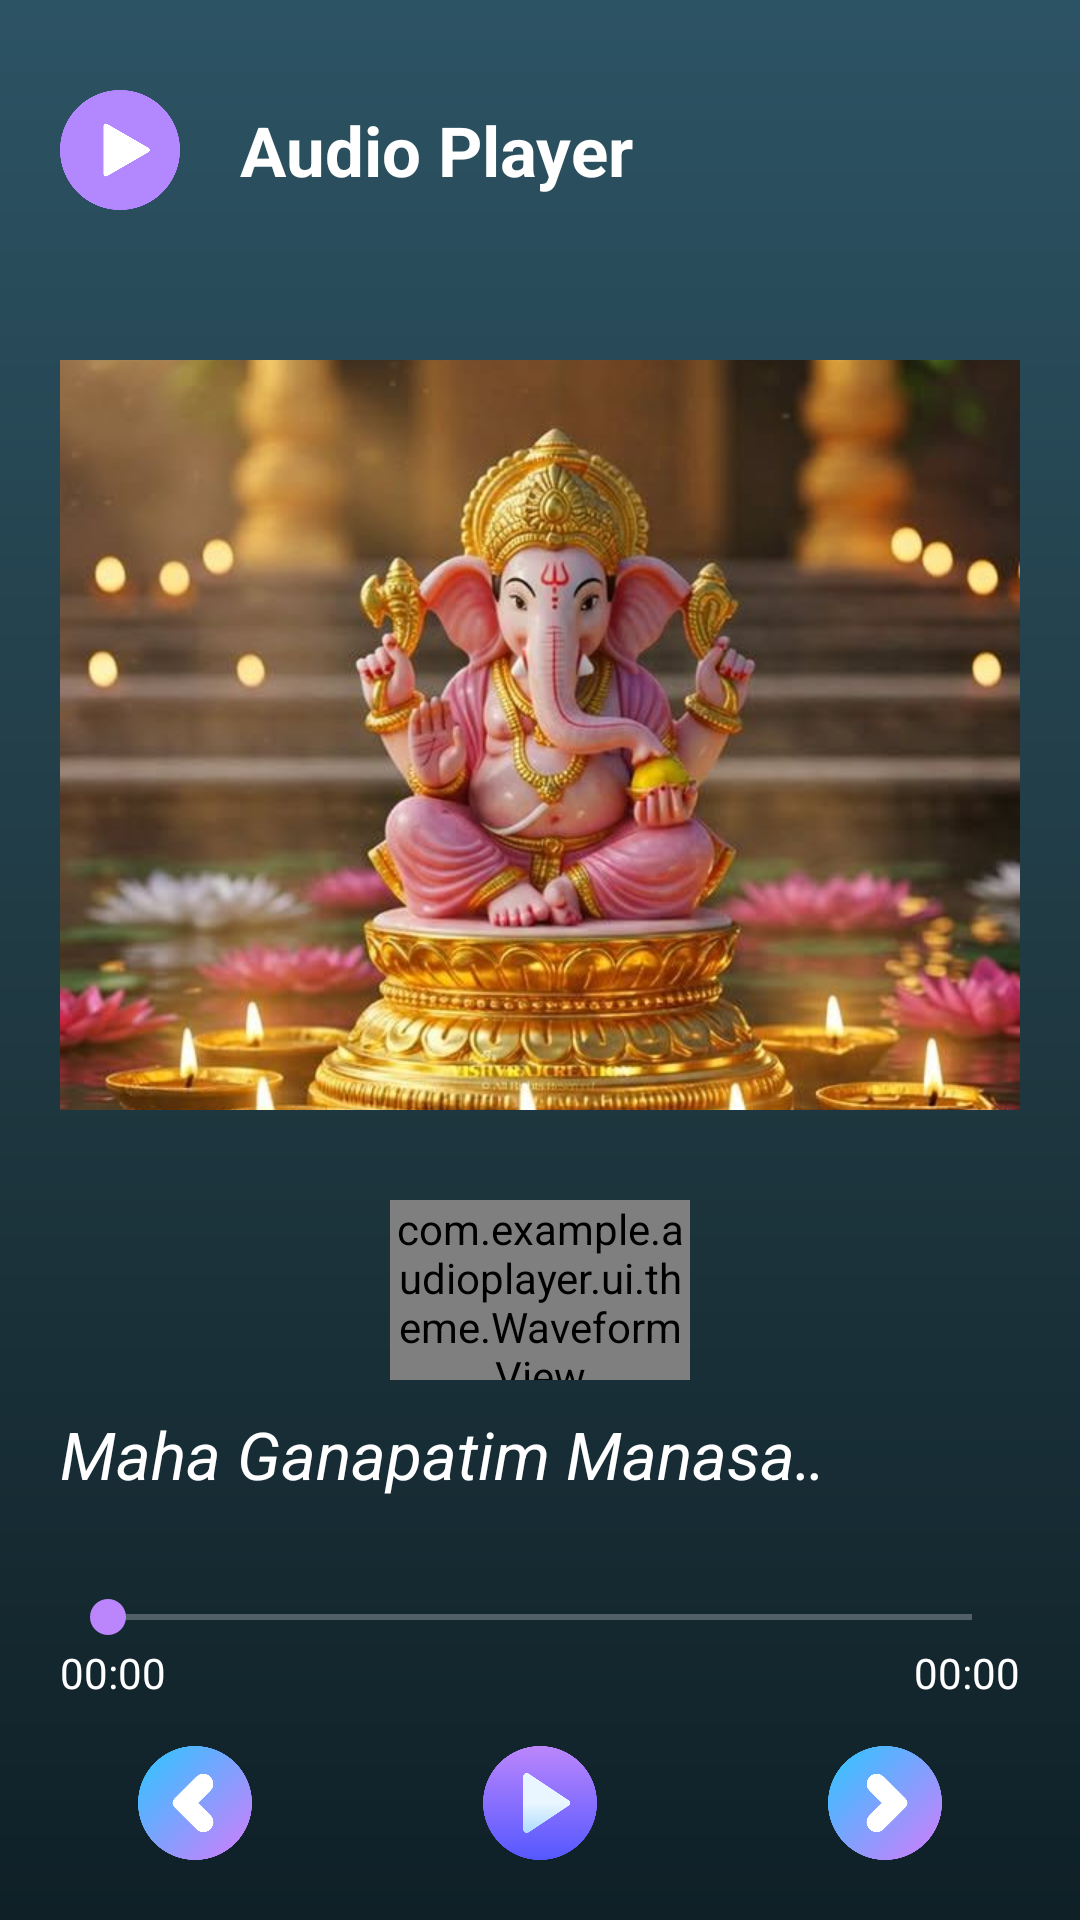

Icon click points for this 1080x1920 phone screenshot, format point (x, y):
back: point (195, 1803)
playbutton: point (540, 1803)
right: point (885, 1803)
